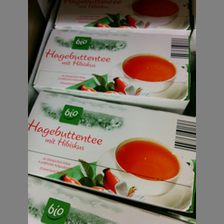tea: (28, 91, 195, 214), (33, 28, 193, 112)
